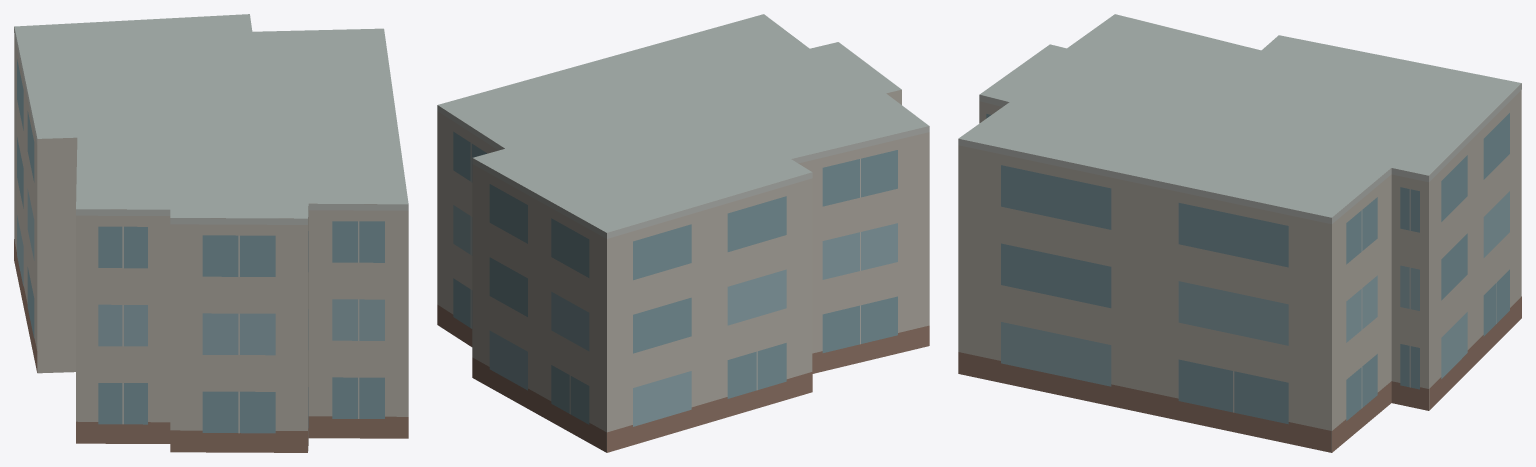
File: survey-upis-32682023.glb
3 views of the same model, side by side, from view 1: azimuth 30°, elevation 25°; view 2: azimuth 150°, elevation 25°; view 3: azimuth 270°, elevation 25° (orthographic). The views are drawn at different scales.
Parts seen in each view (by area): view 1: survey-upis-32682023.tmp; view 2: survey-upis-32682023.tmp; view 3: survey-upis-32682023.tmp.
Part boxes in pixels (x1,y1,x2,y2): survey-upis-32682023.tmp: (14, 14, 408, 452); survey-upis-32682023.tmp: (437, 14, 929, 452); survey-upis-32682023.tmp: (958, 14, 1521, 452).
Size of the model in its own units: 16.36 by 8.8 by 19.12.
